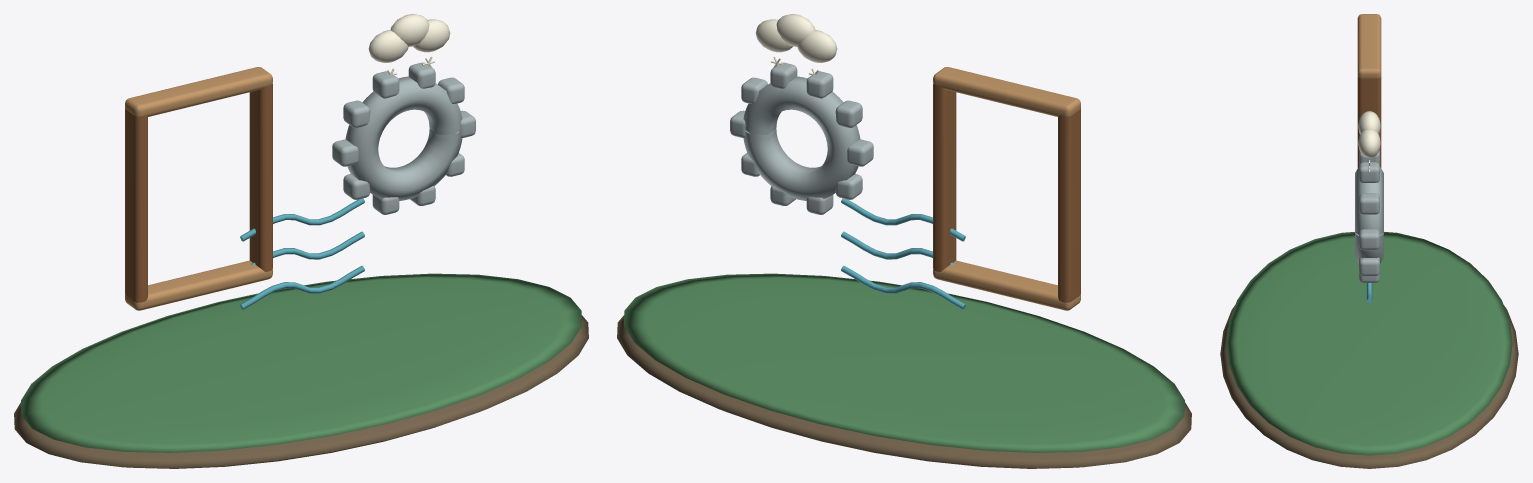
File: complete-second-empty-adjustment.glb
3 renders of one model, left to right at view 1: azimuth 30°, elevation 25°; view 2: azimuth 150°, elevation 25°; view 3: azimuth 270°, elevation 25°, orthographic. The views are drawn at different scales.
Parts seen in each view (by area): view 1: complete-second-empty-adjustment_surface_01, complete-second-empty-adjustment_surface_04, complete-second-empty-adjustment_surface_00, complete-second-empty-adjustment_surface_02, complete-second-empty-adjustment_surface_03, complete-second-empty-adjustment_surface_06, complete-second-empty-adjustment_surface_05; view 2: complete-second-empty-adjustment_surface_01, complete-second-empty-adjustment_surface_04, complete-second-empty-adjustment_surface_00, complete-second-empty-adjustment_surface_02, complete-second-empty-adjustment_surface_03, complete-second-empty-adjustment_surface_06, complete-second-empty-adjustment_surface_05; view 3: complete-second-empty-adjustment_surface_01, complete-second-empty-adjustment_surface_00, complete-second-empty-adjustment_surface_04, complete-second-empty-adjustment_surface_03, complete-second-empty-adjustment_surface_02, complete-second-empty-adjustment_surface_06.
Boxes of the visible parts, <box> form: complete-second-empty-adjustment_surface_01: <box>21,273,581,452</box>; complete-second-empty-adjustment_surface_04: <box>332,62,475,214</box>; complete-second-empty-adjustment_surface_00: <box>14,315,588,468</box>; complete-second-empty-adjustment_surface_02: <box>125,83,272,302</box>; complete-second-empty-adjustment_surface_03: <box>125,67,272,310</box>; complete-second-empty-adjustment_surface_06: <box>368,14,450,74</box>; complete-second-empty-adjustment_surface_05: <box>240,198,364,309</box>; complete-second-empty-adjustment_surface_01: <box>624,273,1184,452</box>; complete-second-empty-adjustment_surface_04: <box>730,62,873,214</box>; complete-second-empty-adjustment_surface_00: <box>617,315,1191,468</box>; complete-second-empty-adjustment_surface_02: <box>933,83,1080,302</box>; complete-second-empty-adjustment_surface_03: <box>933,67,1080,310</box>; complete-second-empty-adjustment_surface_06: <box>755,14,837,74</box>; complete-second-empty-adjustment_surface_05: <box>841,198,965,309</box>; complete-second-empty-adjustment_surface_01: <box>1226,232,1512,455</box>; complete-second-empty-adjustment_surface_00: <box>1220,305,1518,468</box>; complete-second-empty-adjustment_surface_04: <box>1355,150,1383,282</box>; complete-second-empty-adjustment_surface_03: <box>1357,14,1381,78</box>; complete-second-empty-adjustment_surface_02: <box>1357,76,1381,167</box>; complete-second-empty-adjustment_surface_06: <box>1358,111,1380,171</box>.
Size of the model in its own units: 4.56 by 2.78 by 2.5.
